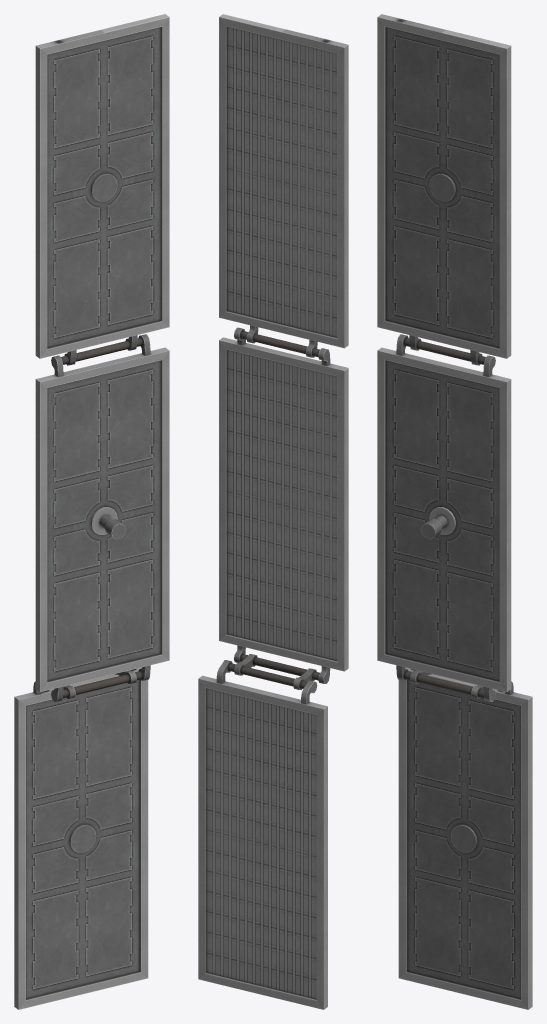
The model's file is grus_resource_sensor_srf_1.obj.
3 renders of one model, left to right at view 1: azimuth 30°, elevation 25°; view 2: azimuth 150°, elevation 25°; view 3: azimuth 330°, elevation 25°, orthographic. The views are drawn at different scales.
Visible parts, largest first — view 1: 1, 1_sep7; view 2: 1; view 3: 1, 1_sep7.
Boxes of the visible parts, bbox=[...] form: 1: bbox=[14, 14, 169, 1009]; 1_sep7: bbox=[69, 824, 96, 852]; 1: bbox=[198, 14, 348, 1009]; 1: bbox=[377, 14, 532, 1009]; 1_sep7: bbox=[450, 824, 477, 852].
Bounding box in the file's own units: 0.875 × 6.3 × 0.4625.
1 material, 1 textured.
